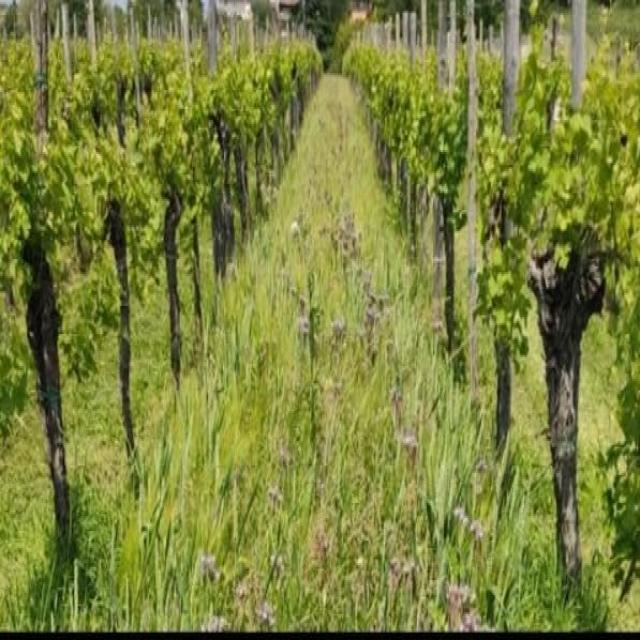row: (47, 69, 572, 632)
